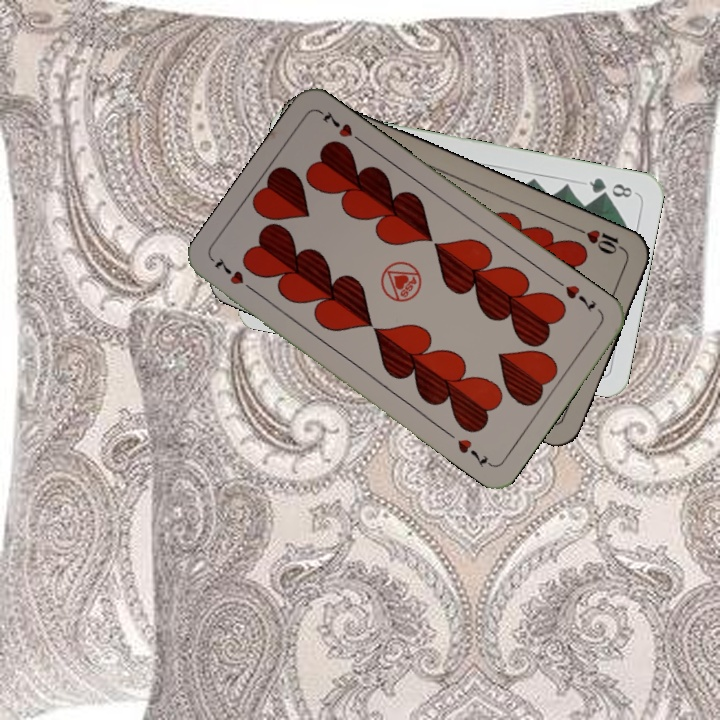G8: (585, 173, 635, 200)
H10: (573, 224, 629, 257)
H7: (209, 254, 260, 296), (551, 275, 599, 314)
